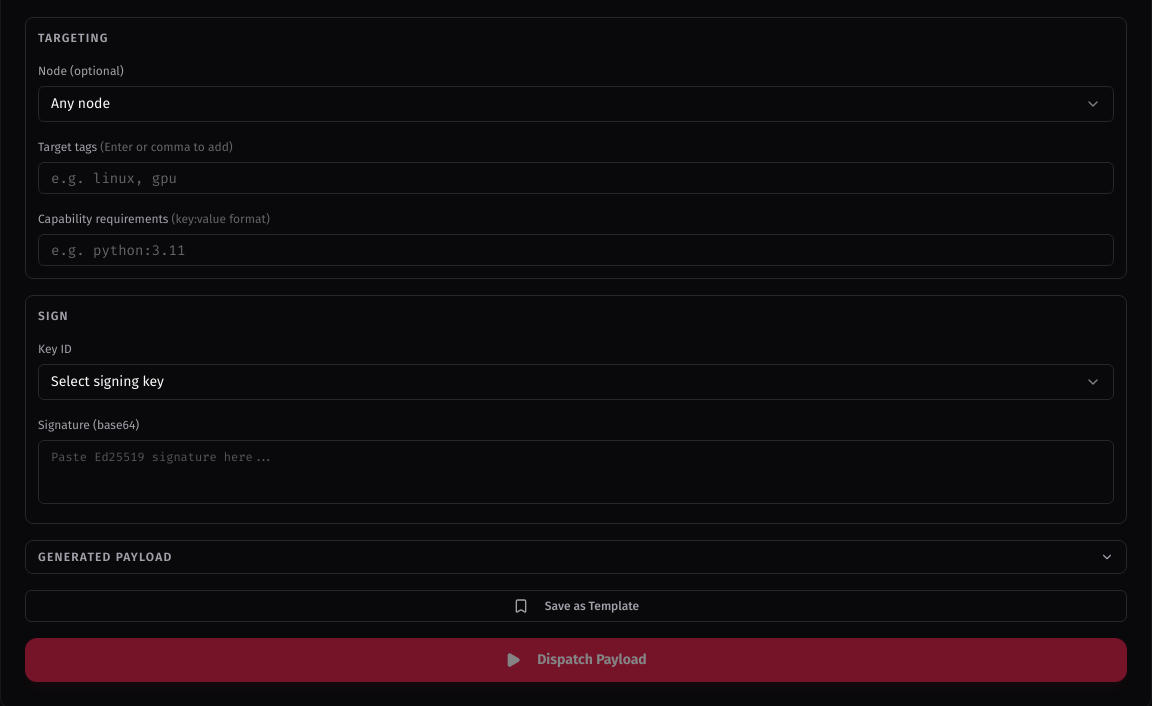
Test case: GuidedDispatchCard › JSON preview shows generated payload that updates live as form fields change
The image size is (1152, 706).
(page scrolled)
Open the preview accordion
Click the button "Generated Payload": x=105, y=557 [26, 541, 1126, 573]
(page scrolled)
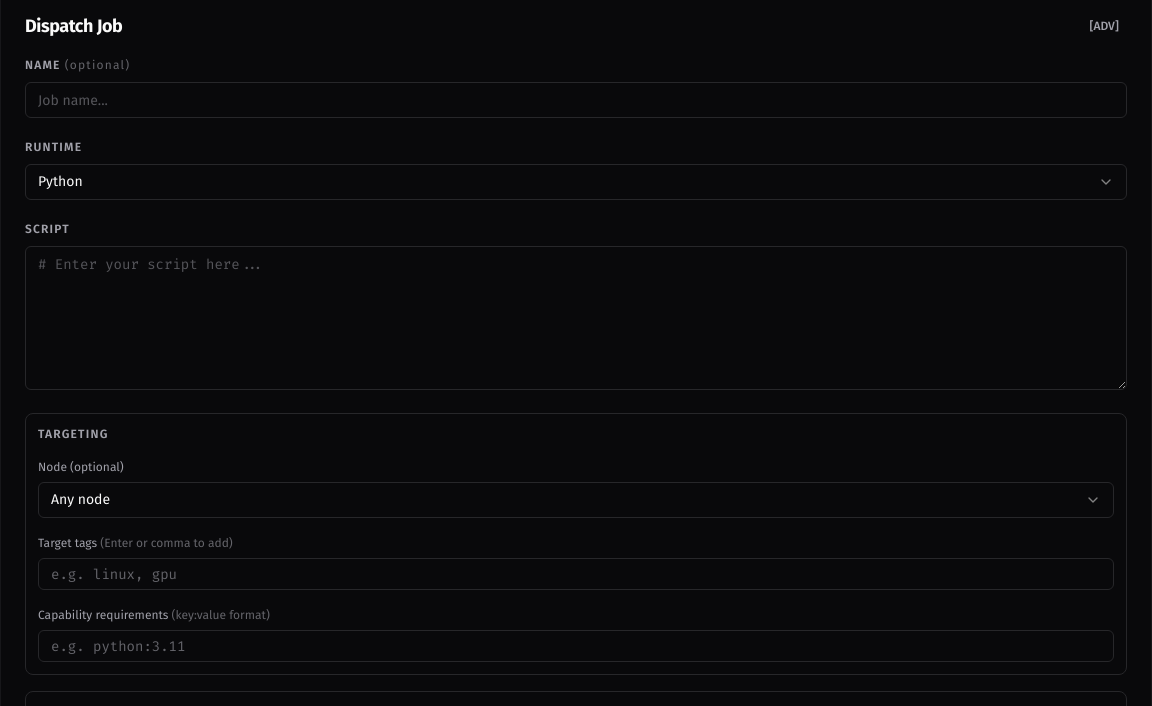
Change the name field
In the field with placeholder "Job name...": x=576, y=100 [25, 82, 1127, 118], type "My Test Job"
(page scrolled)
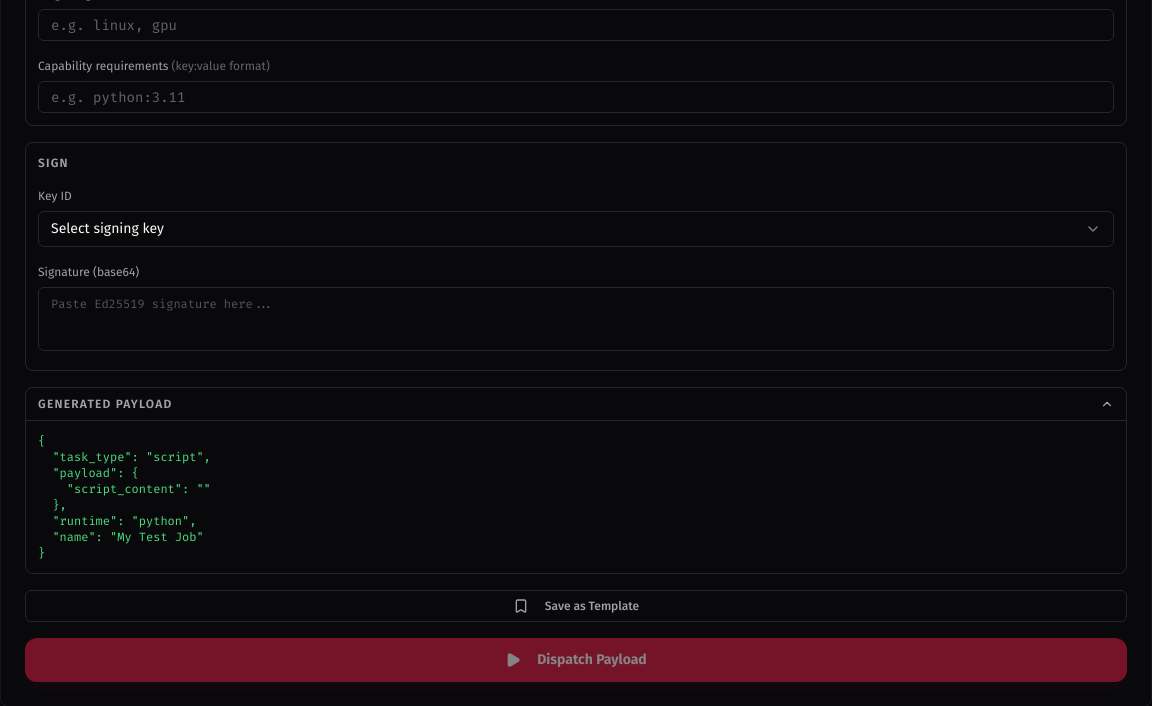
Check: the text "My Test Job" is shown, box [38, 433, 211, 561]
